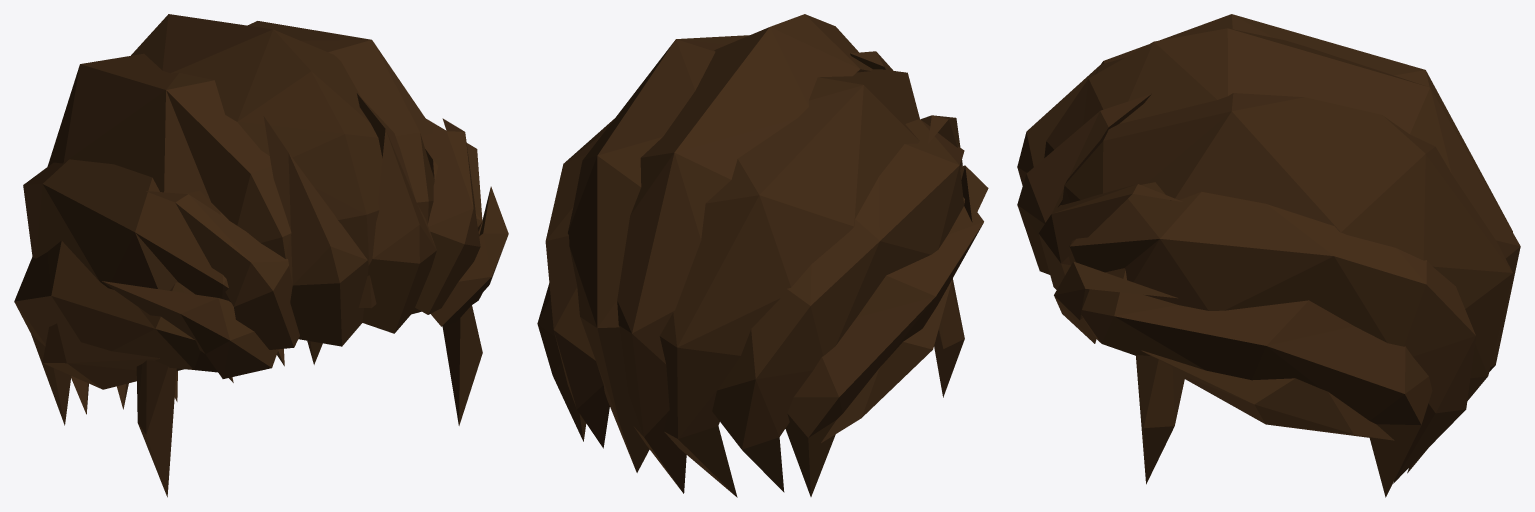
The model's file is hair-tousled.mid.b13596b0.glb.
3 renders of one model, left to right at view 1: azimuth 30°, elevation 25°; view 2: azimuth 150°, elevation 25°; view 3: azimuth 270°, elevation 25°, orthographic. The views are drawn at different scales.
Parts seen in each view (by area): view 1: hair-tousled; view 2: hair-tousled; view 3: hair-tousled.
Boxes of the visible parts, x1,y1,x2,y2 form: hair-tousled: (14, 14, 508, 497); hair-tousled: (537, 14, 988, 497); hair-tousled: (1017, 14, 1520, 497).
Size of the model in its own units: 0.2275 by 0.2408 by 0.2564.
